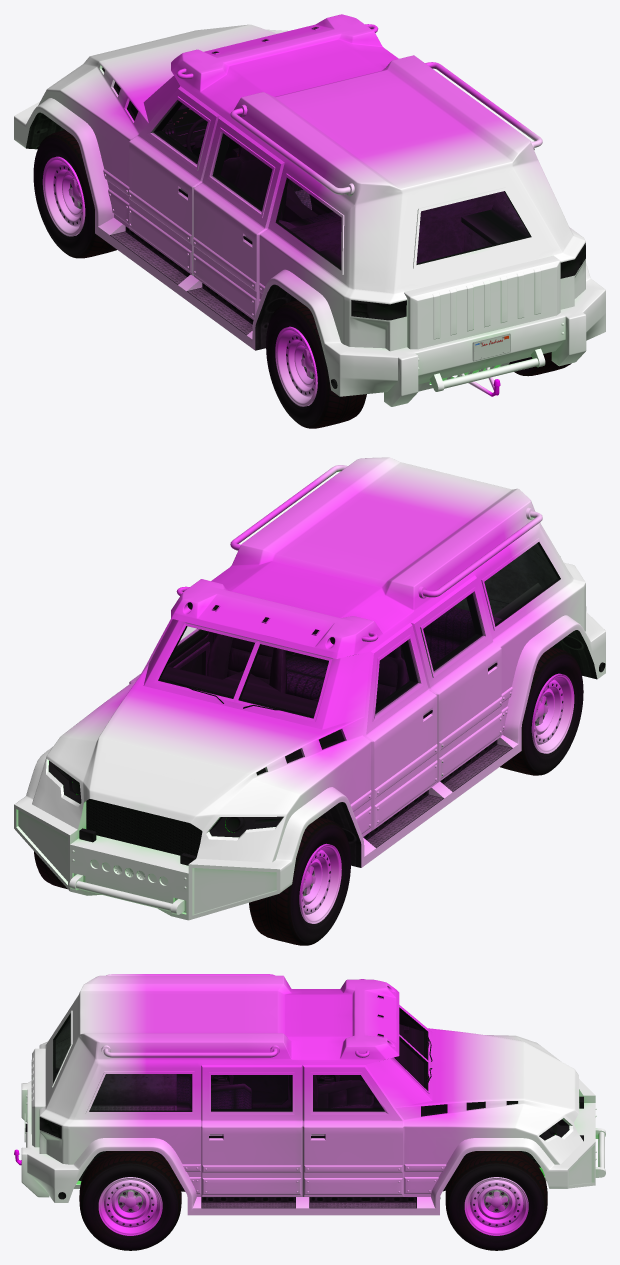
Rendered from nightshark.glb.
The picture shows the model from 3 angles, top to bottom: view 1: azimuth 30°, elevation 25°; view 2: azimuth 150°, elevation 25°; view 3: azimuth 270°, elevation 25°; orthographic projection. The views are drawn at different scales.
Visible parts, largest first — view 1: bodyshell, chassis, door_dside_r, door_dside_f, wheel_lr, wheel_lf, windscreen_r, window_lm, window_lr, window_lf, plate; view 2: bodyshell, chassis, door_dside_r, door_dside_f, wheel_lf, wheel_lr, window_lm, window_lr, window_lf, door_pside_f; view 3: bodyshell, chassis, door_pside_r, door_pside_f, wheel_rr, wheel_rf, window_rm, window_rr, window_rf, door_dside_r, windscreen_r, door_dside_f.
Part boxes in pixels (left/top/right/bottom): bodyshell: left=14, top=14, right=605, bottom=406; chassis: left=26, top=67, right=585, bottom=396; door_dside_r: left=193, top=115, right=284, bottom=319; door_dside_f: left=129, top=86, right=219, bottom=275; wheel_lr: left=266, top=300, right=366, bottom=428; wheel_lf: left=33, top=130, right=116, bottom=258; windscreen_r: left=417, top=192, right=529, bottom=263; window_lm: left=278, top=179, right=340, bottom=267; window_lr: left=212, top=133, right=271, bottom=211; window_lf: left=153, top=101, right=206, bottom=164; plate: left=472, top=333, right=510, bottom=361; bodyshell: left=14, top=457, right=605, bottom=920; chassis: left=48, top=542, right=597, bottom=867; door_dside_r: left=410, top=575, right=501, bottom=782; door_dside_f: left=363, top=622, right=437, bottom=831; wheel_lf: left=249, top=817, right=350, bottom=945; wheel_lr: left=500, top=647, right=583, bottom=775; window_lm: left=485, top=543, right=558, bottom=624; window_lr: left=424, top=593, right=483, bottom=671; window_lf: left=376, top=640, right=418, bottom=714; door_pside_f: left=129, top=618, right=210, bottom=683; bodyshell: left=21, top=974, right=605, bottom=1215; chassis: left=14, top=1007, right=583, bottom=1208; door_pside_r: left=201, top=1065, right=302, bottom=1196; door_pside_f: left=302, top=1065, right=404, bottom=1196; wheel_rr: left=79, top=1151, right=181, bottom=1250; wheel_rf: left=445, top=1151, right=547, bottom=1250; window_rm: left=90, top=1074, right=191, bottom=1110; window_rr: left=211, top=1075, right=291, bottom=1111; window_rf: left=313, top=1075, right=384, bottom=1111; door_dside_r: left=211, top=1075, right=291, bottom=1108; windscreen_r: left=54, top=1017, right=69, bottom=1079; door_dside_f: left=317, top=1075, right=382, bottom=1108.
Bounding box in the file's own units: 2.22 × 1.93 × 5.32.
19 materials, 19 textured.
